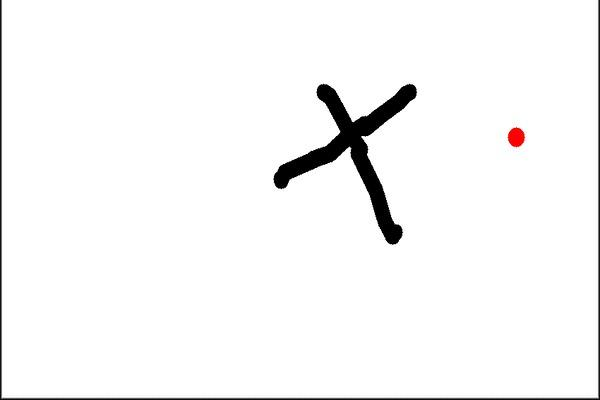X: (257, 56, 436, 270)
